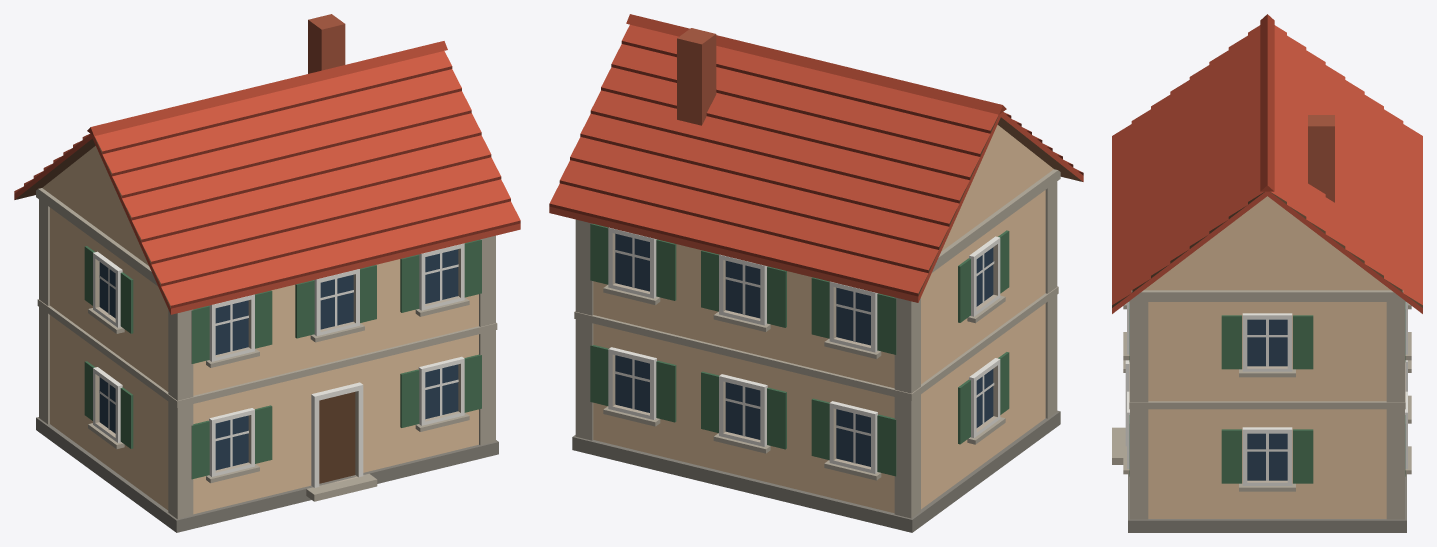
Rendered from maison_test.glb.
The picture shows the model from 3 angles, left to right: view 1: azimuth 30°, elevation 25°; view 2: azimuth 150°, elevation 25°; view 3: azimuth 270°, elevation 25°; orthographic projection. The views are drawn at different scales.
Visible parts, largest first — view 1: maison_test; view 2: maison_test; view 3: maison_test.
Part boxes in pixels (left/top/right/bottom): maison_test: left=14, top=14, right=520, bottom=532; maison_test: left=549, top=14, right=1083, bottom=532; maison_test: left=1112, top=14, right=1422, bottom=532.
Bounding box in the file's own units: 9 × 9.22 × 6.9.
1 material, 1 textured.
